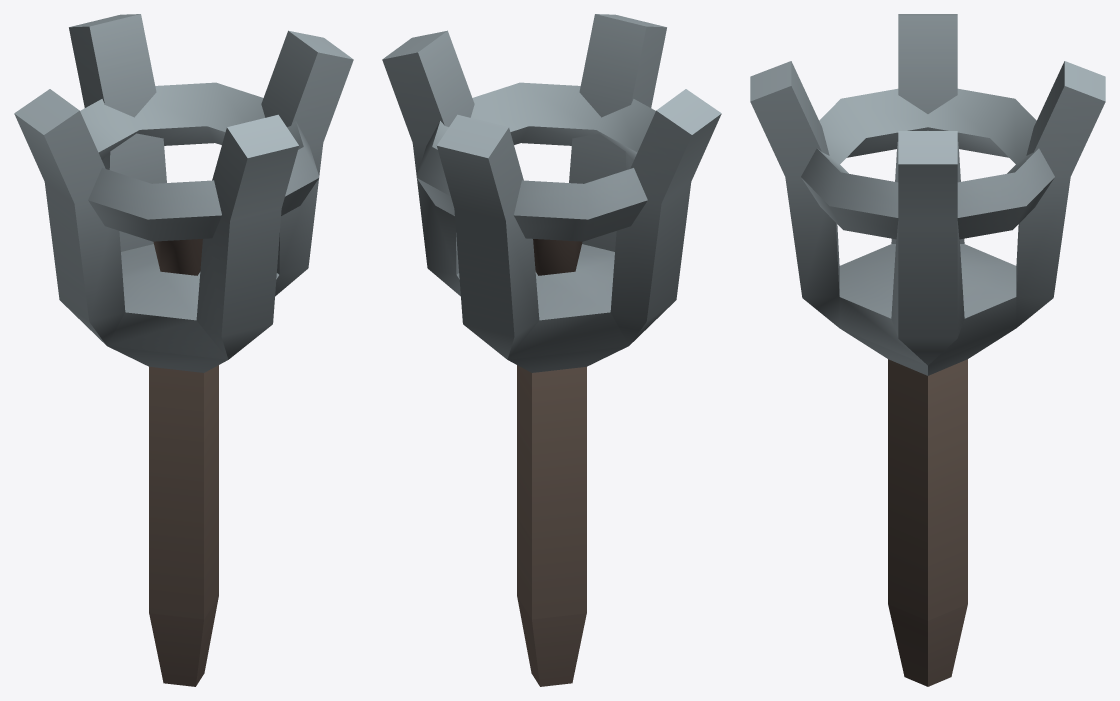
Rendered from torch.gltf.
3 renders of one model, left to right at view 1: azimuth 30°, elevation 25°; view 2: azimuth 150°, elevation 25°; view 3: azimuth 270°, elevation 25°, orthographic.
Visible parts, largest first — view 1: torch; view 2: torch; view 3: torch.
Part boxes in pixels (box(x1,y1,x2,y2)): torch: box(14, 14, 353, 686); torch: box(382, 14, 721, 686); torch: box(750, 14, 1105, 686).
Bounding box in the file's own units: 0.5503 × 1.04 × 0.5503.
1 material, 1 textured.
